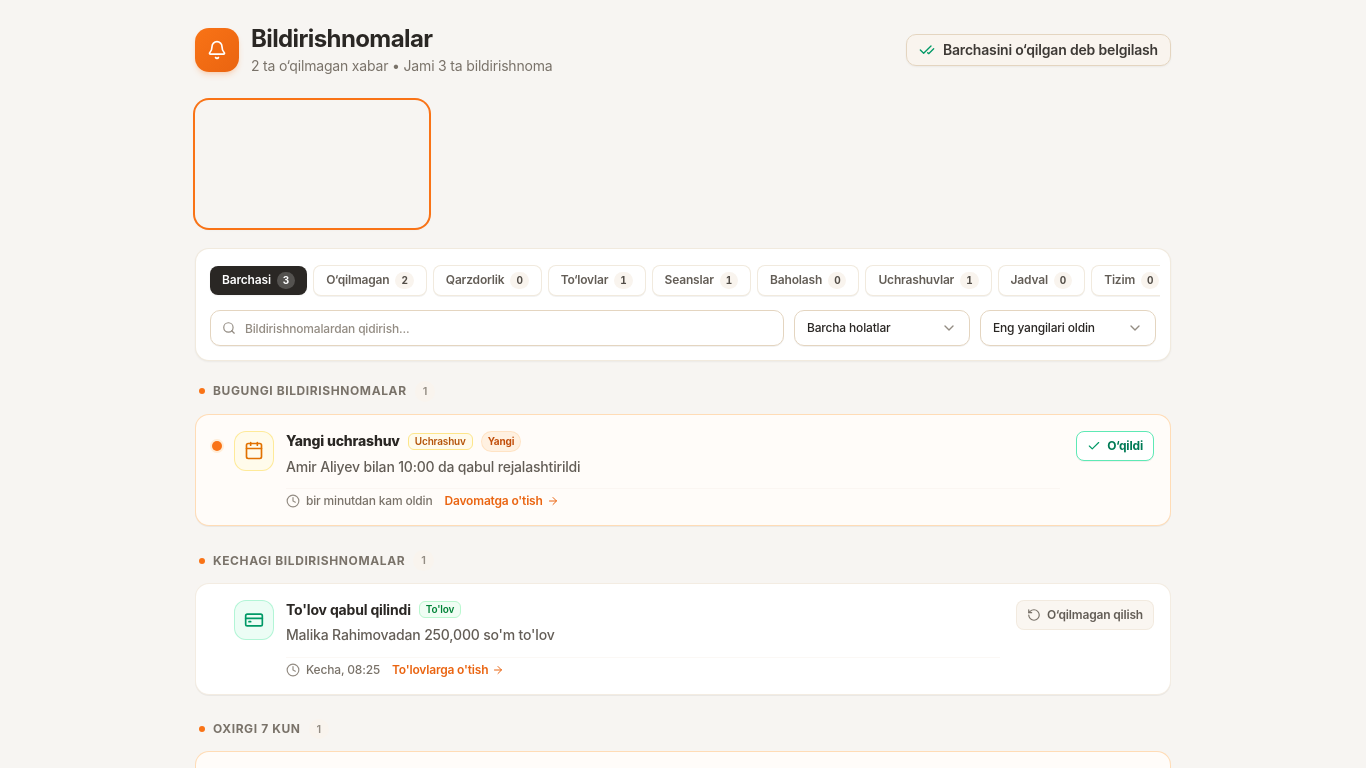
it: NotificationsPage Component › filters notifications by tab pills
# Click "To‘lovlar" tab
Click the button "To‘lovlar 1" at (597,280), box [548,265,646,296]
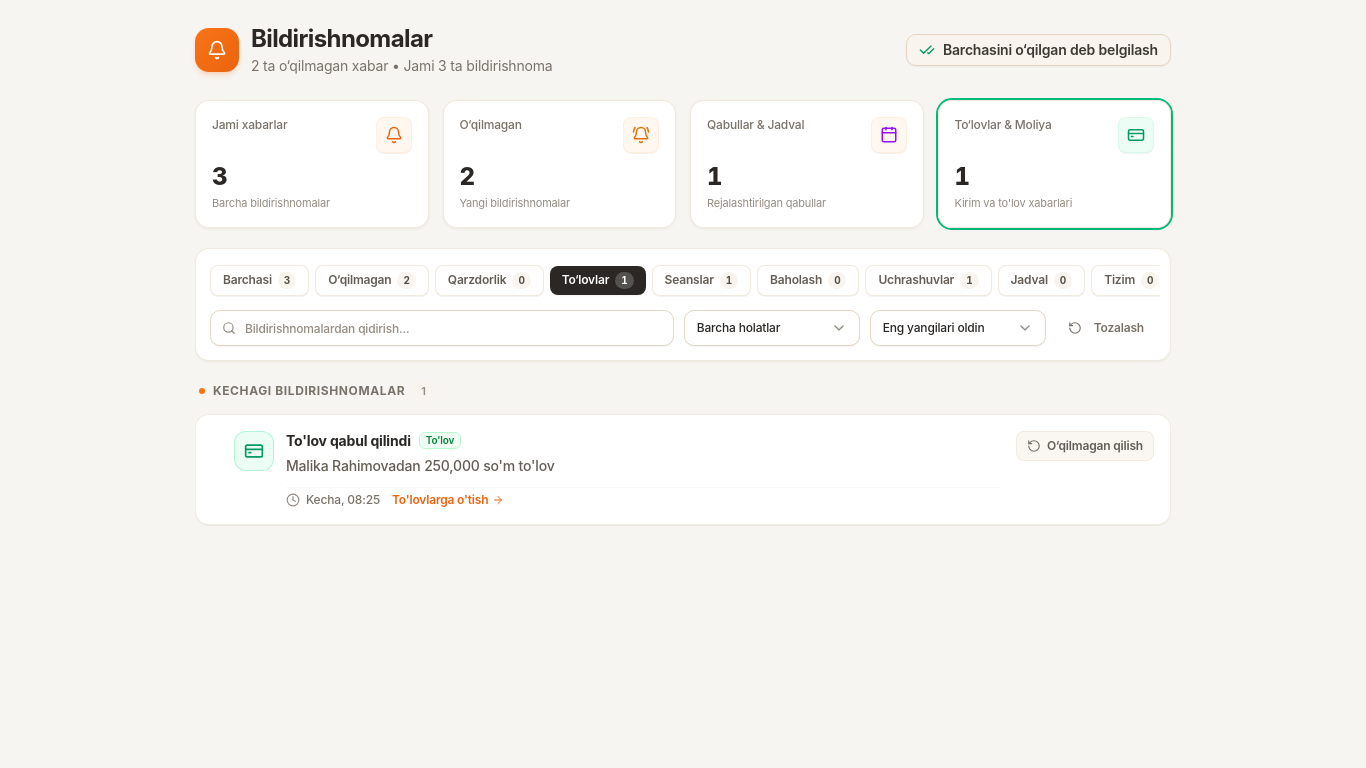
Expected: the text "To'lov qabul qilindi" is shown, [286,431,411,451]
Now the text "Yangi uchrashuv" is gone
